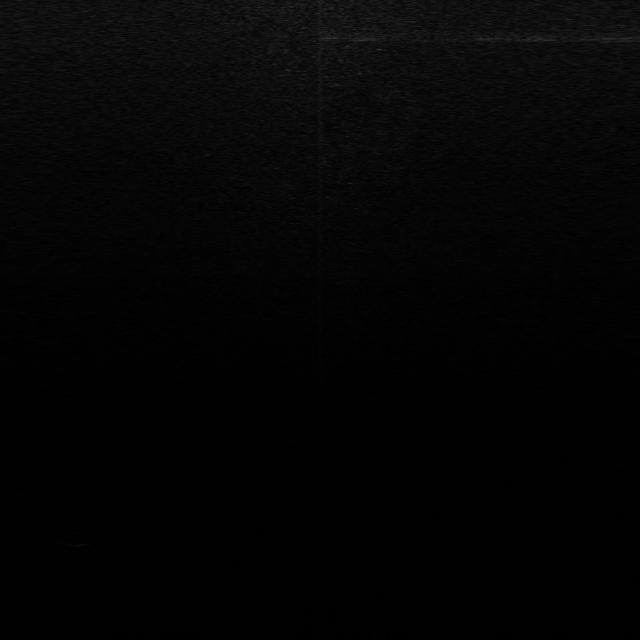tyre: (58, 532, 101, 546)
